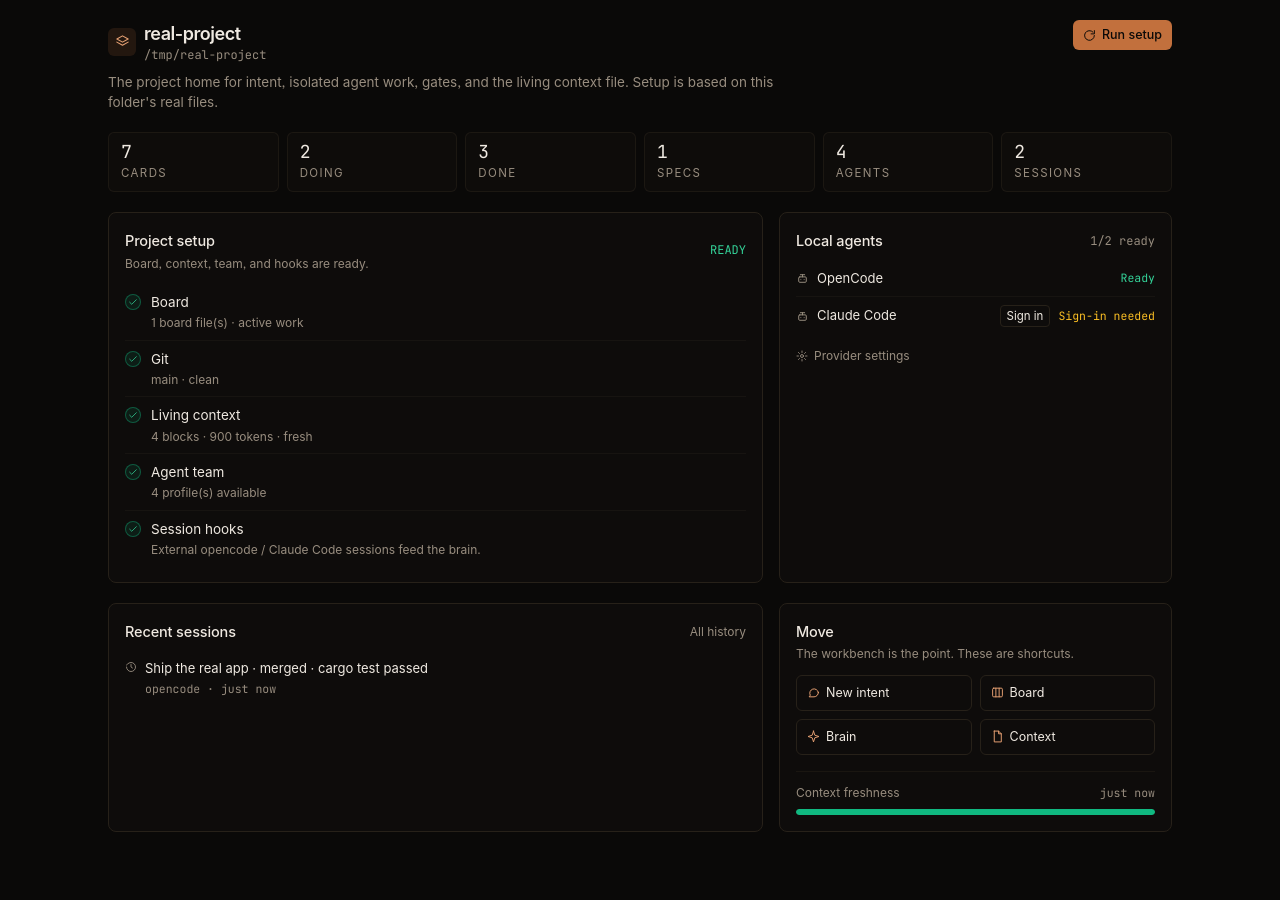
it: WorkspaceView › runs real onboarding and renders the server's steps
Click the button "Run setup": (1122,35) [1073, 20, 1172, 50]
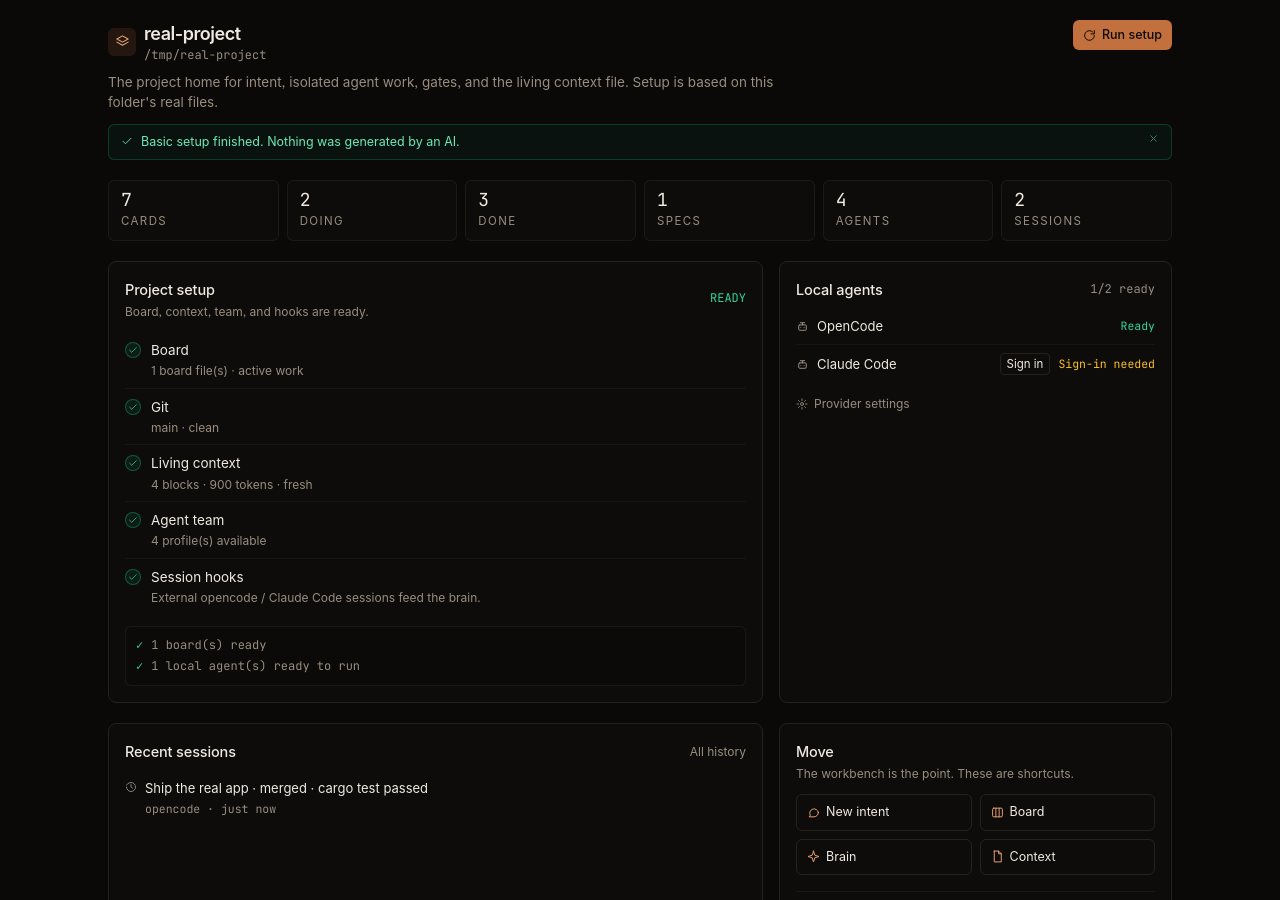
Check: the text "1 board(s) ready" is shown, box [151, 637, 266, 653]
Check: the text "1 local agent(s) ready to run" is shown, box [151, 658, 360, 674]
